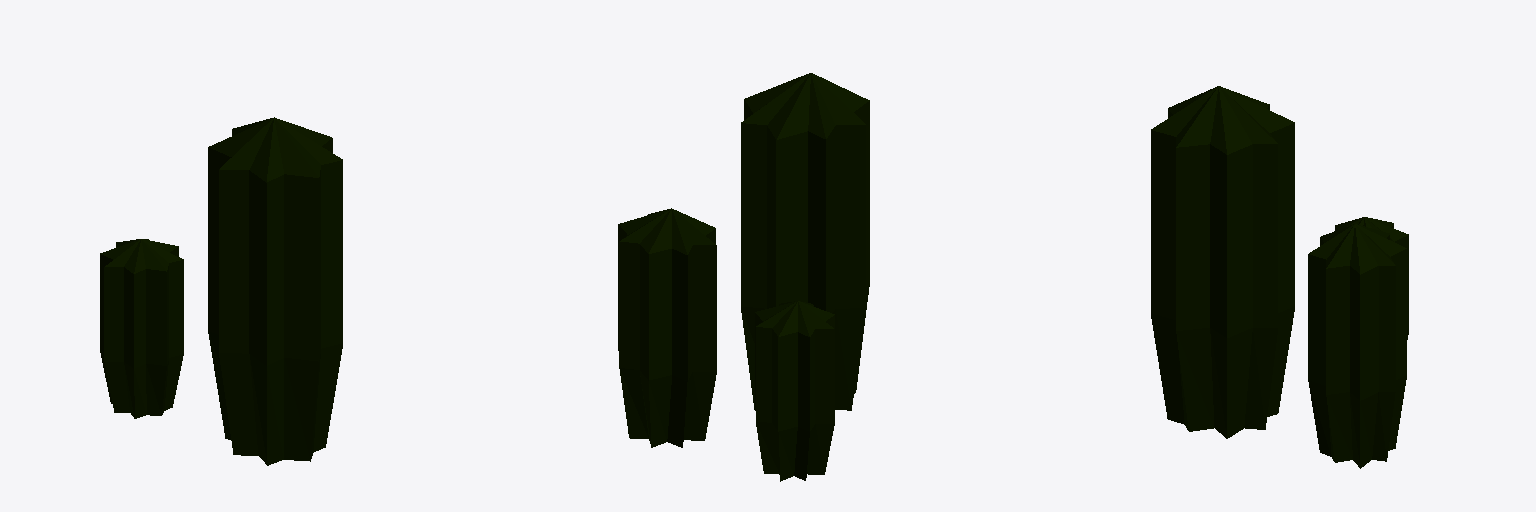
Rendered from cactus2.obj.
The picture shows the model from 3 angles: view 1: azimuth 30°, elevation 25°; view 2: azimuth 150°, elevation 25°; view 3: azimuth 270°, elevation 25°; orthographic projection.
Size of the model in its own units: 237 by 340 by 243.